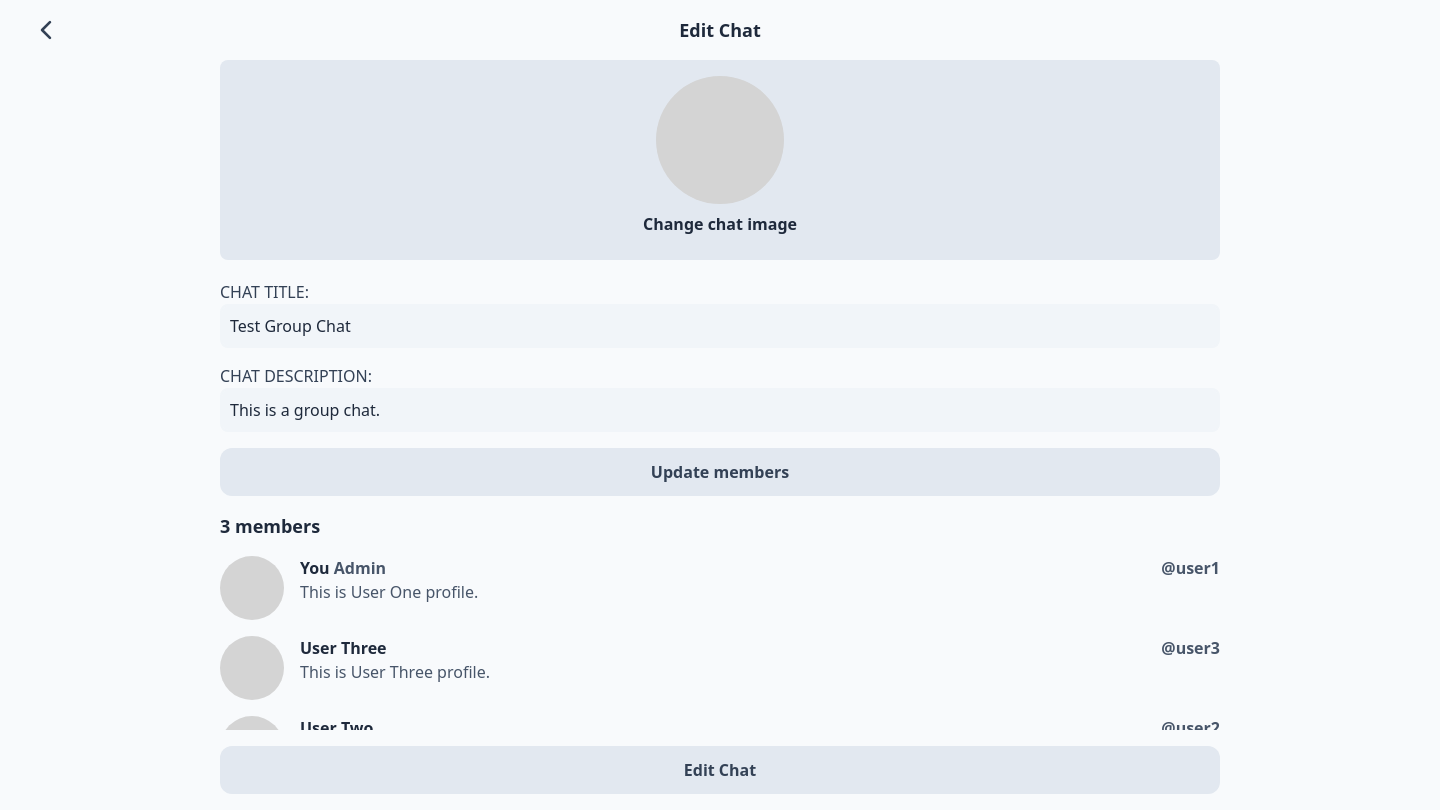
it: <EditGroupChat /> › displays error message when chat title is empty
Clear the field with test id "edit-group-chat-title-input" at {"x": 720, "y": 326}, box x1=230 y1=314 x2=1210 y2=338
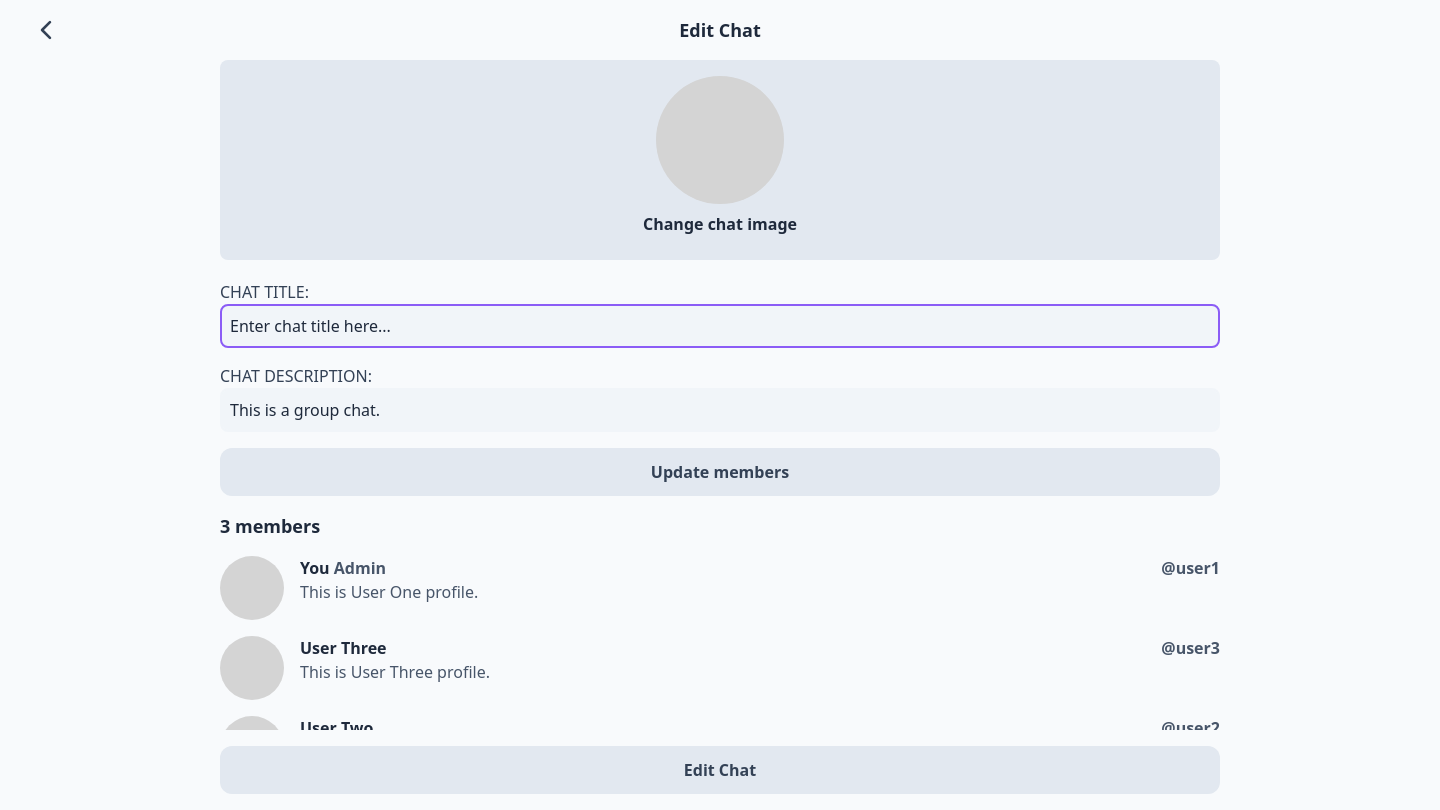
Clear the field with test id "edit-group-chat-description-input" at {"x": 720, "y": 410}, box x1=230 y1=398 x2=1210 y2=422
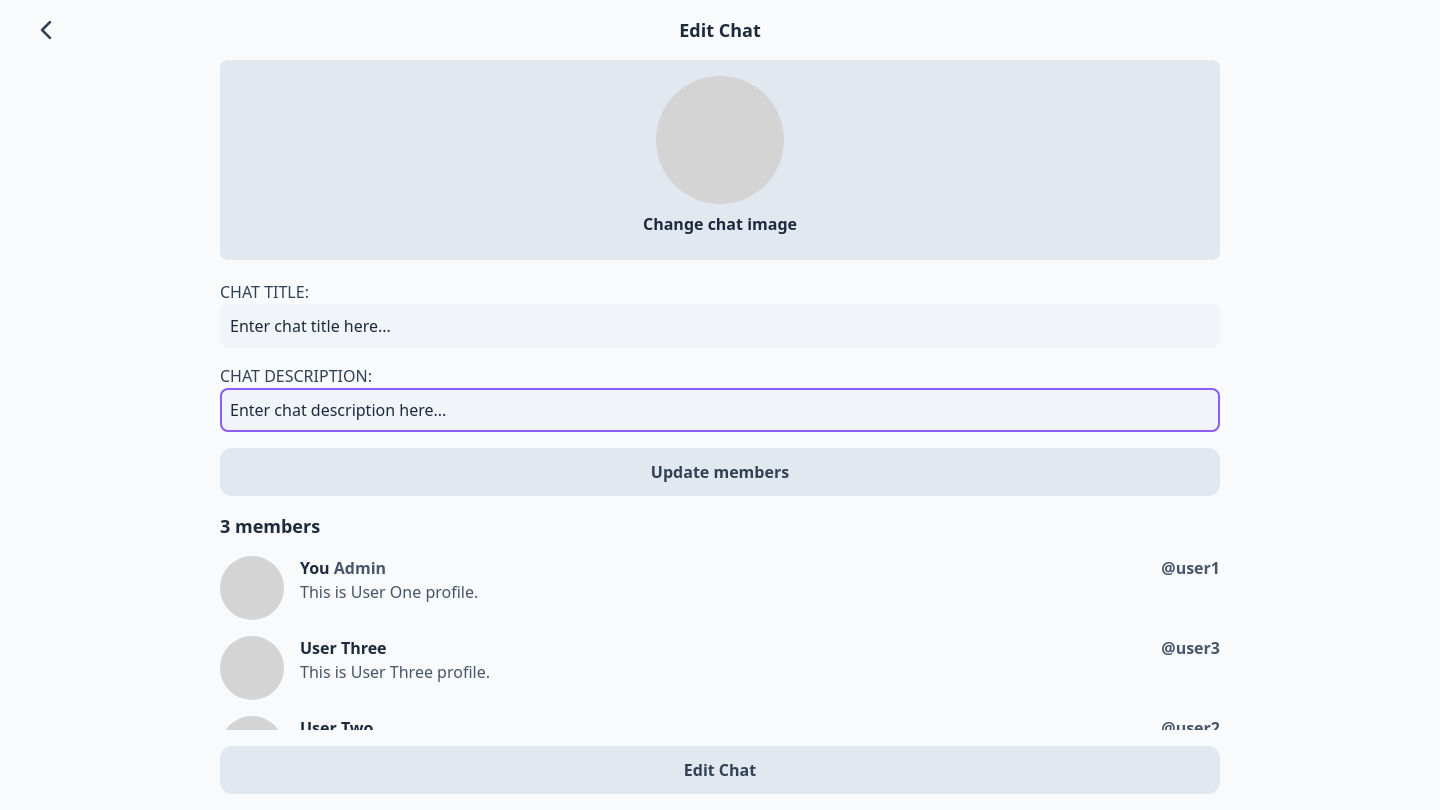
Click the button with test id "edit-group-chat-submit-button" at {"x": 720, "y": 770}, box x1=220 y1=746 x2=1220 y2=794
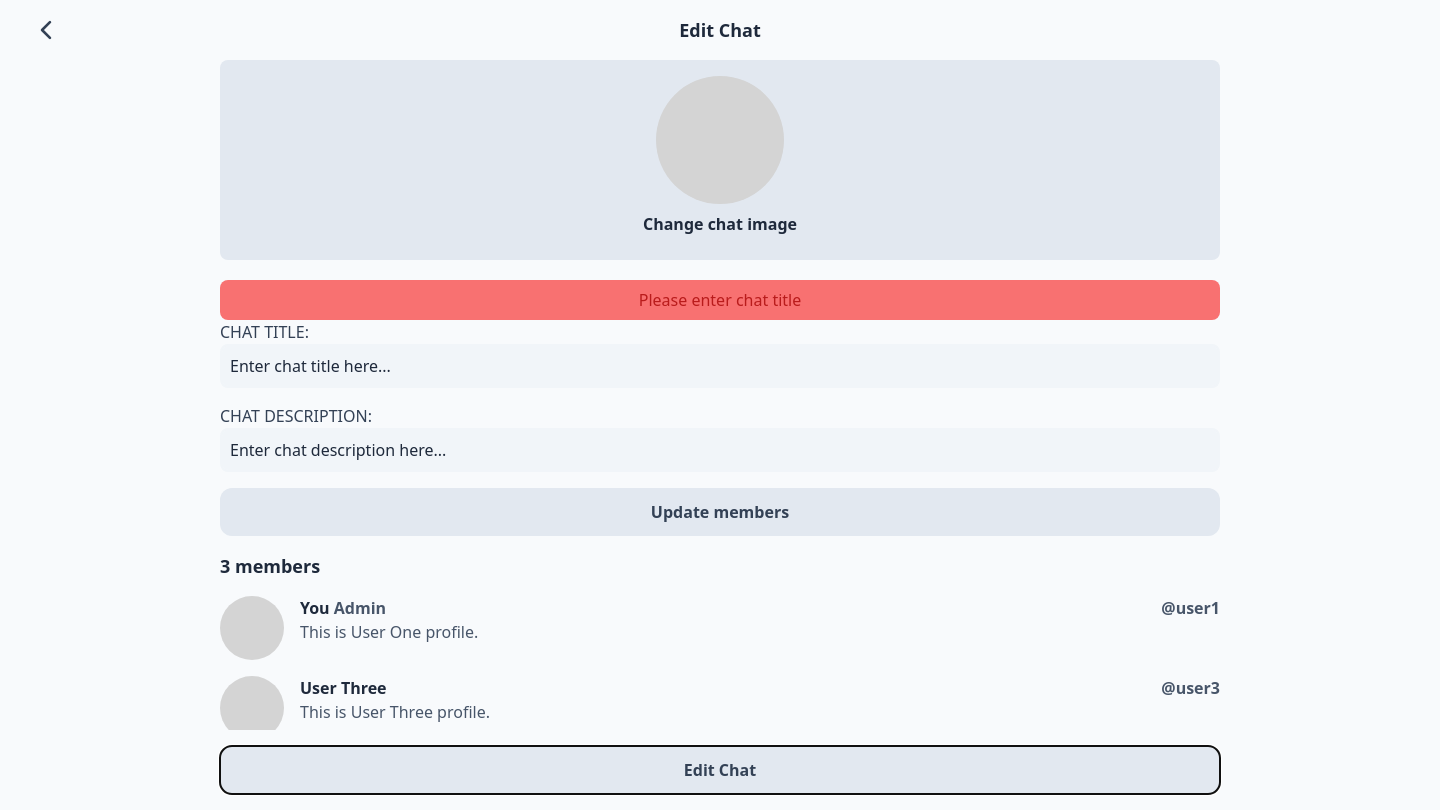
Check: the text "Please enter chat title" is shown, box x1=220 y1=280 x2=1220 y2=320
